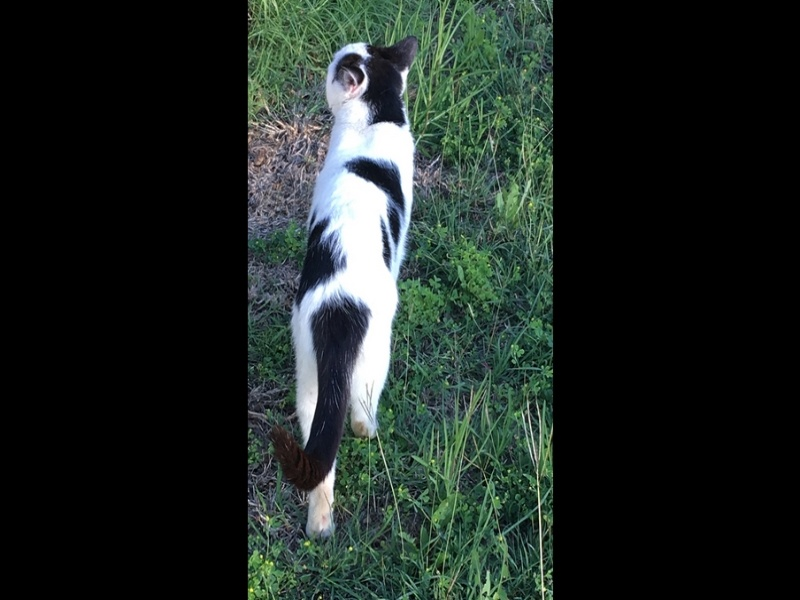cat: (275, 24, 429, 550)
